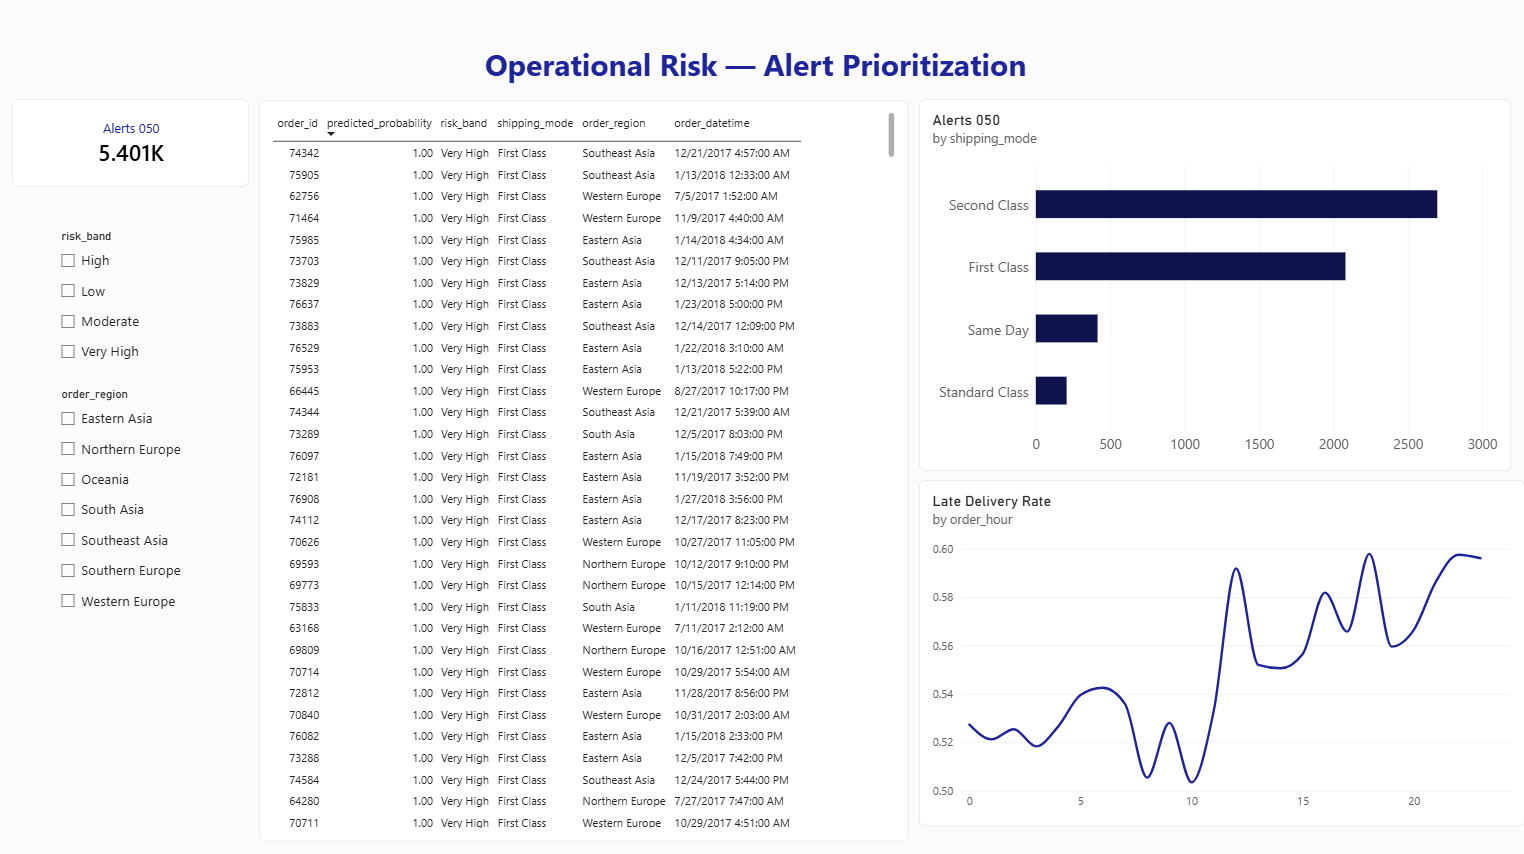

This screenshot's page, from the dashboard's own definition file:
{"tool":"powerbi","page":{"name":"02 Operational Risk","canvas":[1920,1080],"ordinal":1},"visuals":[{"type":"tableEx","fields":{"Values":["test_order_predictions.order_id","test_order_predictions.predicted_probability","test_order_predictions.risk_band","test_order_predictions.shipping_mode","test_order_predictions.order_region","test_order_predictions.order_datetime"]},"box":[338.3,136.7,811.7,926.7],"z":0},{"type":"lineChart","fields":{"Category":["test_order_predictions.order_hour"],"Y":["_Measures.Late Delivery Rate"]},"box":[1163.3,611.7,756.7,433.3],"z":1000},{"type":"clusteredBarChart","fields":{"Category":["test_order_predictions.shipping_mode"],"Y":["_Measures.Alerts 050"]},"box":[1163.3,135,740,465],"z":2000},{"type":"slicer","fields":{"Values":["test_order_predictions.order_region"]},"box":[84,496.3,174.8,298.2],"z":3000},{"type":"slicer","fields":{"Values":["test_order_predictions.risk_band"]},"box":[84,299.3,175,171.7],"z":4000},{"type":"cardVisual","fields":{"Data":["_Measures.Alerts 050"]},"box":[30,135,296.7,110],"z":5000},{"type":"textbox","box":[150,867,300,213],"z":6000},{"type":"textbox","box":[218.3,66.7,1481.7,51.7],"z":7000}]}

Visuals, with their boxes in screenshot pixels (x1, y1, x2, y2), scaled from the page's 1920x1080 canvas onto the 1524x854 screenshot:
tableEx - test_order_predictions.order_id x test_order_predictions.predicted_probability: (269,108,913,841)
lineChart - test_order_predictions.order_hour x _Measures.Late Delivery Rate: (923,484,1523,826)
clusteredBarChart - test_order_predictions.shipping_mode x _Measures.Alerts 050: (923,107,1511,474)
slicer - test_order_predictions.order_region: (67,392,205,628)
slicer - test_order_predictions.risk_band: (67,237,206,372)
cardVisual - _Measures.Alerts 050: (24,107,259,194)
textbox: (119,686,357,853)
textbox: (173,53,1349,94)
